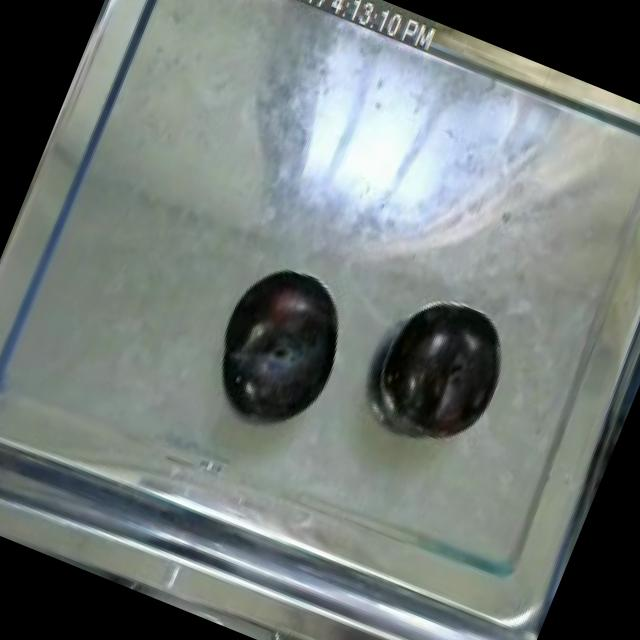Fruit: (192, 250, 364, 440), (364, 284, 524, 454)
